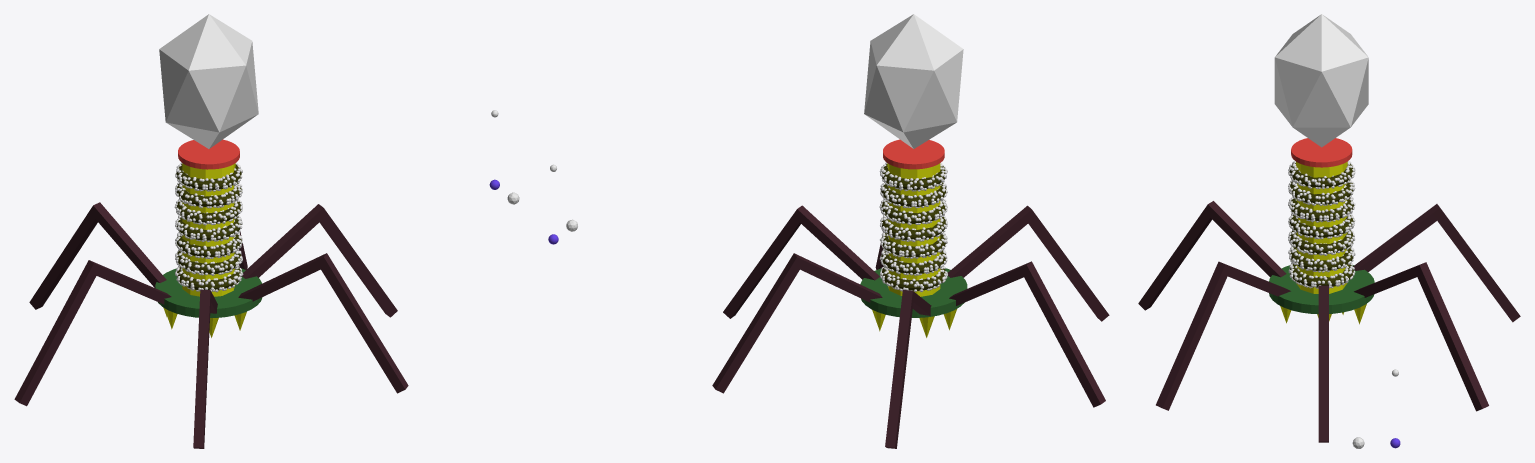
File: 3D_Bacteriophageenteng.fbx
The picture shows the model from 3 angles, left to right: view 1: azimuth 30°, elevation 25°; view 2: azimuth 150°, elevation 25°; view 3: azimuth 270°, elevation 25°; orthographic projection.
Visible parts, largest first — view 1: Icosphere.001, Torus.001, Cube.002, Cube.004, Cube.005, Cube.001, Cylinder.003, Cylinder.002, Cube.006, Cylinder.001; view 2: Icosphere.001, Torus.001, Cube.003, Cube.004, Cube.001, Cube.006, Cube.005, Cylinder.003, Cylinder.002, Cylinder.001; view 3: Icosphere.001, Torus.001, Cube.003, Cube.002, Cube.006, Cube.005, Cylinder.002, Cylinder.003, Cube.001, Cylinder.001.
Boxes of the visible parts, box(x1,y1,x2,y2) form: Icosphere.001: box(159, 14, 258, 148); Torus.001: box(176, 164, 241, 290); Cube.002: box(238, 253, 408, 393); Cube.004: box(14, 260, 171, 406); Cube.005: box(29, 202, 166, 309); Cube.001: box(242, 204, 397, 317); Cylinder.003: box(182, 163, 235, 296); Cylinder.002: box(155, 268, 262, 317); Cube.006: box(193, 289, 217, 448); Cylinder.001: box(178, 139, 239, 169); Icosphere.001: box(864, 14, 963, 148); Torus.001: box(881, 164, 946, 290); Cube.003: box(712, 253, 882, 393); Cube.004: box(949, 261, 1105, 407); Cube.001: box(723, 205, 879, 318); Cube.006: box(948, 205, 1109, 321); Cube.005: box(885, 290, 931, 448); Cylinder.003: box(887, 163, 940, 296); Cylinder.002: box(860, 268, 967, 317); Cylinder.001: box(883, 139, 944, 169); Icosphere.001: box(1274, 14, 1368, 147); Torus.001: box(1289, 163, 1353, 287); Cube.003: box(1354, 262, 1488, 411); Cube.002: box(1156, 261, 1290, 410); Cube.006: box(1138, 201, 1286, 310); Cube.005: box(1353, 204, 1520, 322); Cylinder.002: box(1269, 265, 1374, 314); Cylinder.003: box(1296, 161, 1347, 293); Cube.001: box(1318, 285, 1328, 442); Cylinder.001: box(1291, 138, 1352, 167).
Size of the model in its own units: 173 by 110 by 112.
